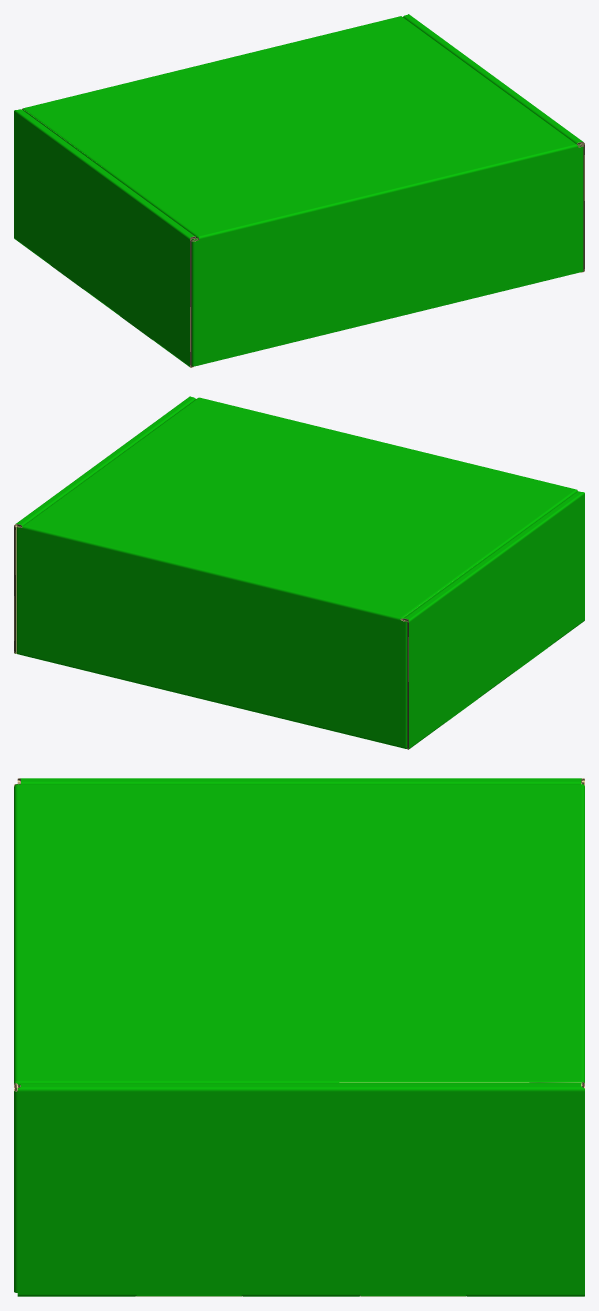
3 views of the same model, one above another, from view 1: azimuth 30°, elevation 25°; view 2: azimuth 150°, elevation 25°; view 3: azimuth 270°, elevation 25° (orthographic). The views are drawn at different scales.
Visible parts, largest first — view 1: _12_5X10X4FO427_E_ARD-node; view 2: _12_5X10X4FO427_E_ARD-node; view 3: _12_5X10X4FO427_E_ARD-node.
Part boxes in pixels (<box>): _12_5X10X4FO427_E_ARD-node: <box>14,14,584,367</box>; _12_5X10X4FO427_E_ARD-node: <box>14,396,584,749</box>; _12_5X10X4FO427_E_ARD-node: <box>14,778,584,1296</box>.
Bounding box in the file's own units: 333 × 106 × 259.
3 materials, 2 textured.
